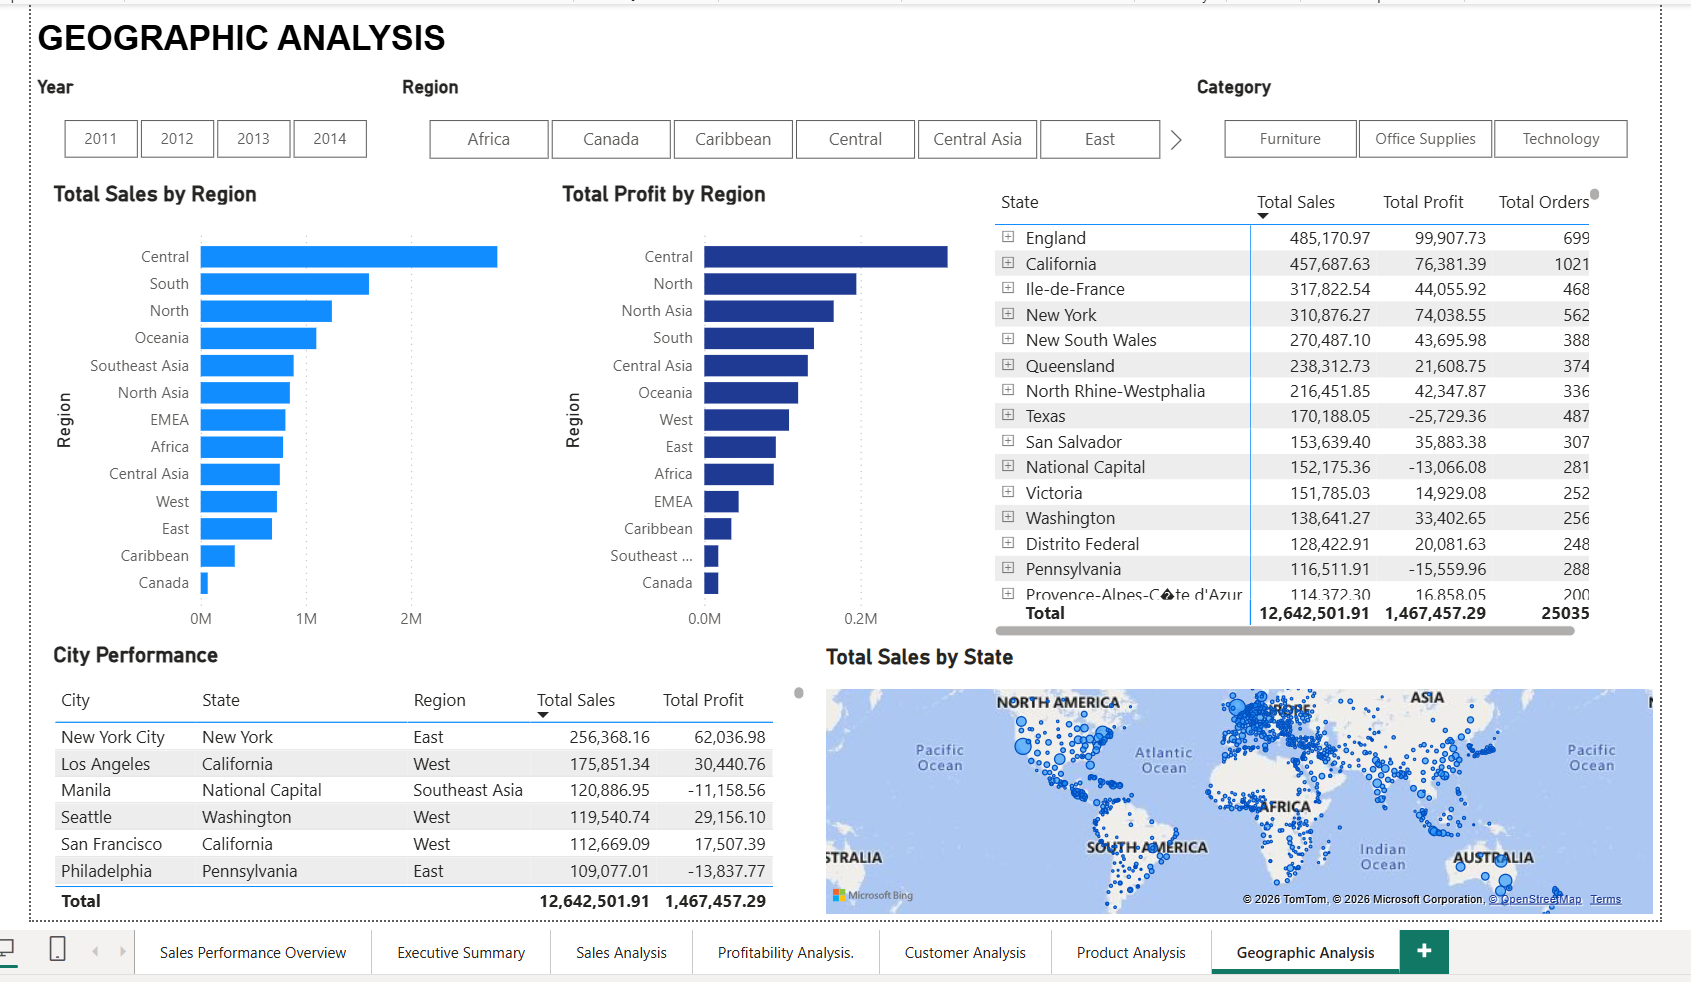

Layout of this report page (visuals, bound fields, positions):
{"tool":"powerbi","page":{"name":"Geographic Analysis","canvas":[1280,720],"ordinal":6},"visuals":[{"type":"clusteredBarChart","title":"Total Sales by Region","fields":{"Category":["Global-Superstore.Region"],"Y":["Global-Superstore.Total Sales"]},"box":[12.9,138.6,368,363],"z":1000},{"type":"clusteredBarChart","title":"Total Profit by Region","fields":{"Category":["Global-Superstore.Region"],"Y":["Global-Superstore.Total Profit"]},"box":[412.9,138.6,327,363],"z":2000},{"type":"map","fields":{"Category":["Global-Superstore.State"],"Size":["Global-Superstore.Total Sales"]},"box":[752.9,502.9,527.1,217.1],"z":5000},{"type":"slicer","title":"Year","fields":{"Values":["Calendar.Year"]},"box":[0,55.7,288,72],"z":5500},{"type":"slicer","title":"Region","fields":{"Values":["Global-Superstore.Region"]},"box":[287.1,55.7,624.4,72.2],"z":7000},{"type":"slicer","title":"Category","fields":{"Values":["Global-Superstore.Category"]},"box":[911.4,55.7,367.1,71.4],"z":8000},{"type":"textbox","box":[0,0,1227.1,67.1],"z":9000},{"type":"tableEx","title":"City Performance","fields":{"Values":["Global-Superstore.City","Global-Superstore.State","Global-Superstore.Region","Global-Superstore.Total Sales","Global-Superstore.Total Profit"]},"box":[81.4,501.4,600,218.3],"z":9001},{"type":"pivotTable","fields":{"Rows":["Global-Superstore.State","Global-Superstore.City"],"Values":["Global-Superstore.Total Sales","Global-Superstore.Total Profit","Global-Superstore.Total Orders"]},"box":[752.9,140,485.7,362.9],"z":9002}]}

Visuals, with their boxes on the page's 1280x720 design canvas (x1, y1, x2, y2). These are canvas units, not pixel positions in the 1691x982 screenshot, which may show the page scaled, cropped or inside an application window:
"Total Sales by Region" clusteredBarChart: pyautogui.locateOnScreen(13, 139, 381, 502)
"Total Profit by Region" clusteredBarChart: pyautogui.locateOnScreen(413, 139, 740, 502)
map - Global-Superstore.State x Global-Superstore.Total Sales: pyautogui.locateOnScreen(753, 503, 1280, 720)
"Year" slicer: pyautogui.locateOnScreen(0, 56, 288, 128)
"Region" slicer: pyautogui.locateOnScreen(287, 56, 912, 128)
"Category" slicer: pyautogui.locateOnScreen(911, 56, 1278, 127)
textbox: pyautogui.locateOnScreen(0, 0, 1227, 67)
"City Performance" tableEx: pyautogui.locateOnScreen(81, 501, 681, 720)
pivotTable - Global-Superstore.State x Global-Superstore.City: pyautogui.locateOnScreen(753, 140, 1239, 503)
